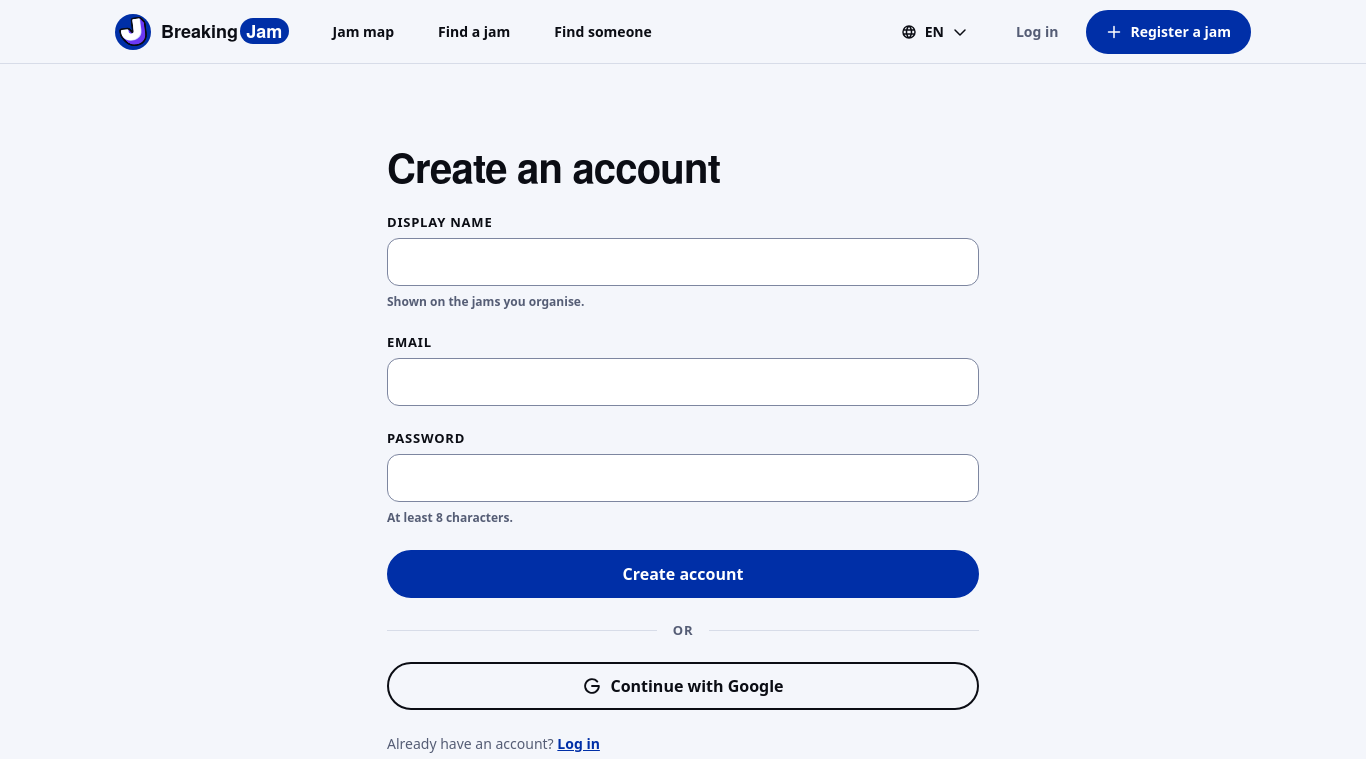
Test: RegisterPage › points a taken email at the login page
In the field labelled "Display name": [683, 262] box [387,238,979,286], type "Lil G"
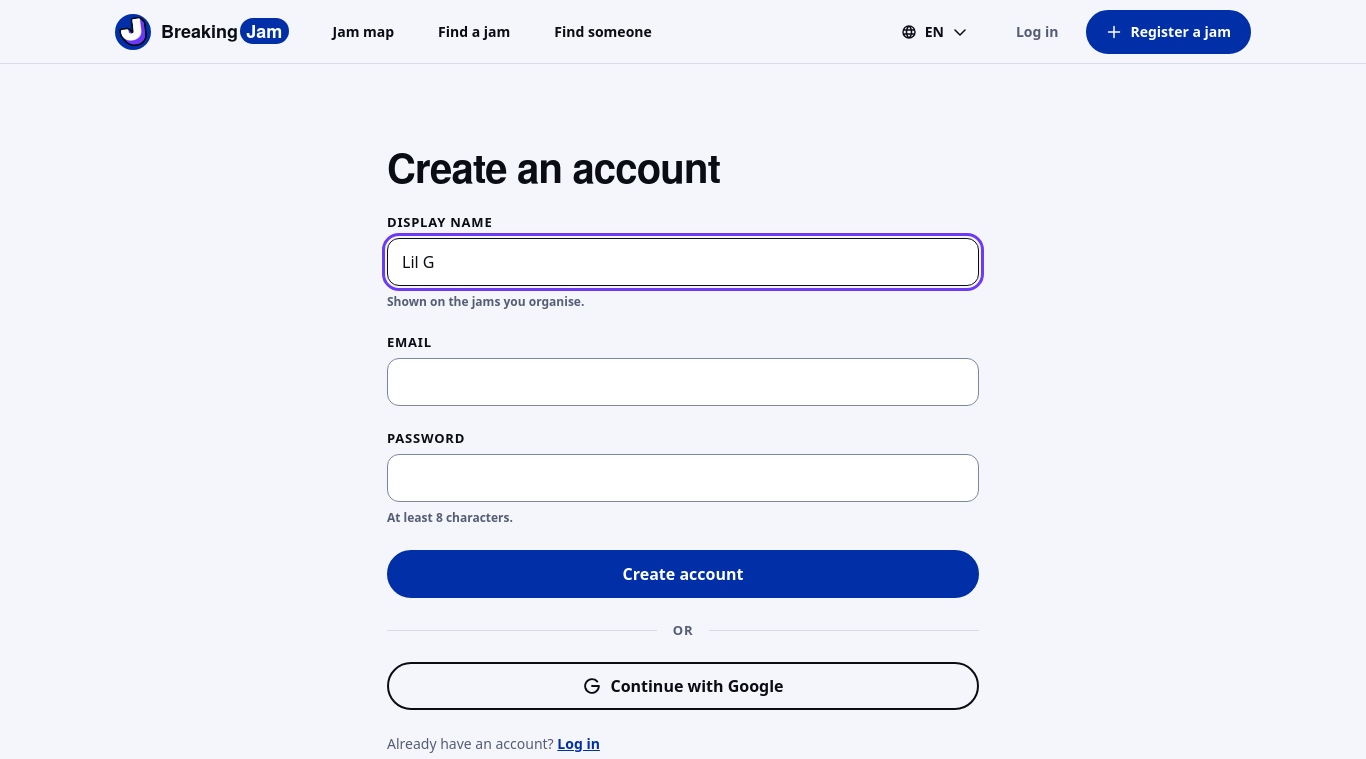
In the field labelled "Email": [683, 382] box [387,358,979,406], type "lilg@example.com"
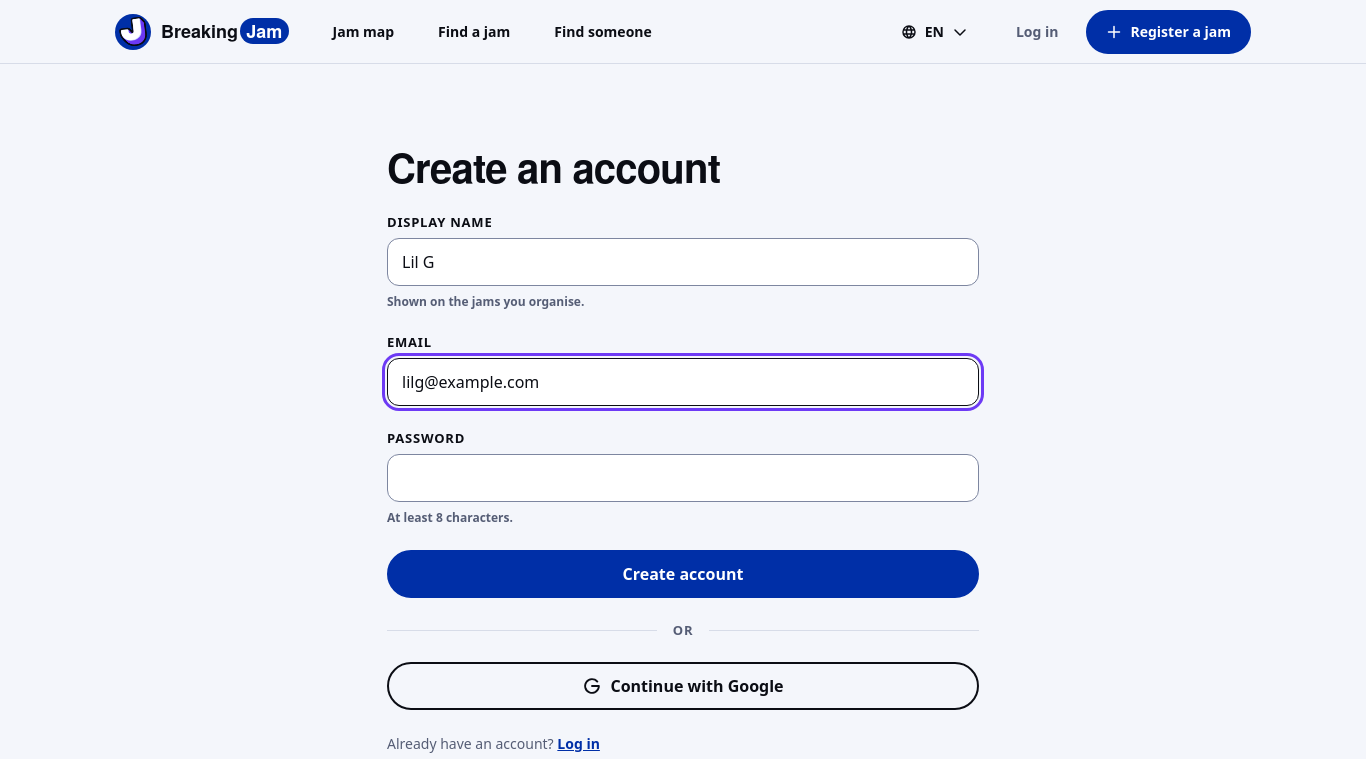
In the password field labelled "Password": [683, 478] box [387,454,979,502], type "correct horse"
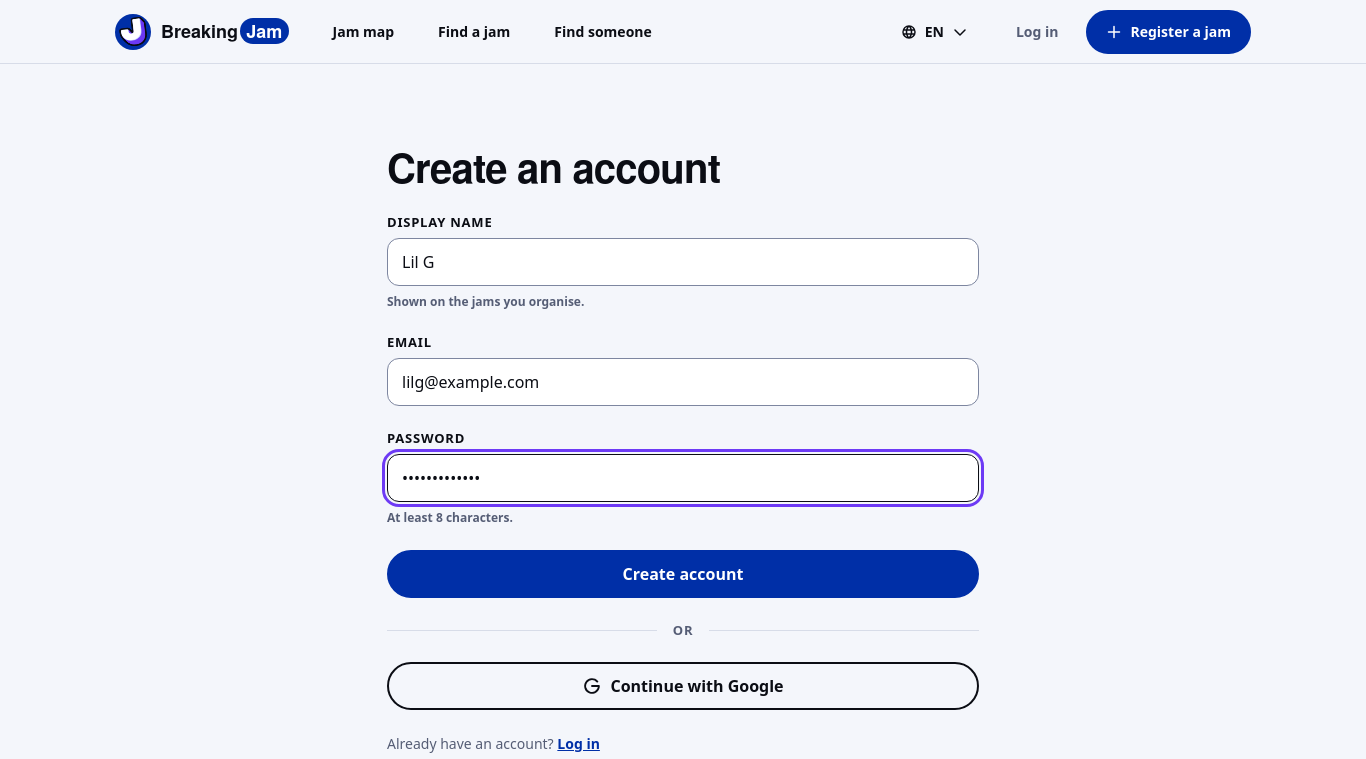
Click the button "Create account": [683, 574] box [387,550,979,598]
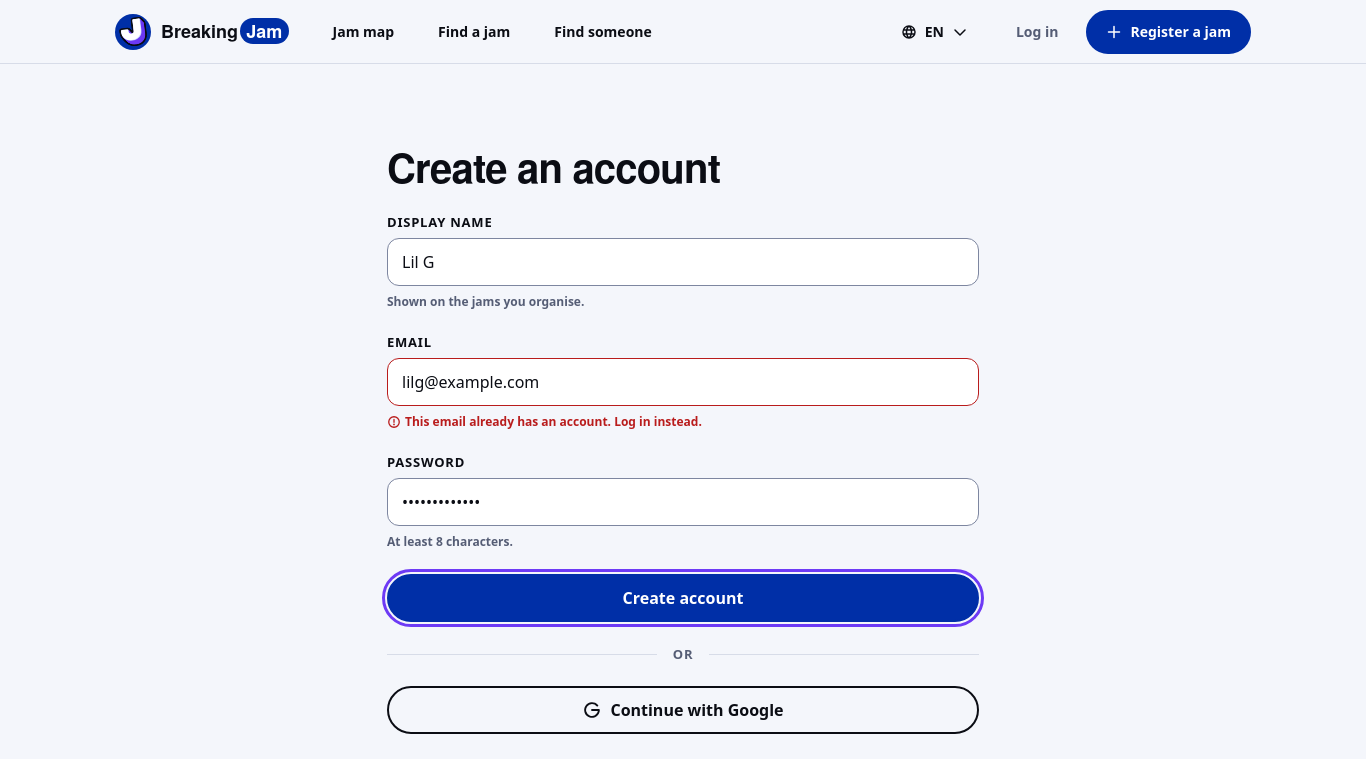
Result: the text "This email already has an account. Log in instead." is shown at [387,413,702,430]
